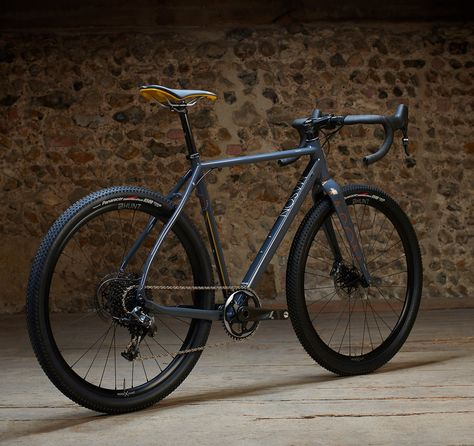bicycle: (25, 84, 424, 413)
